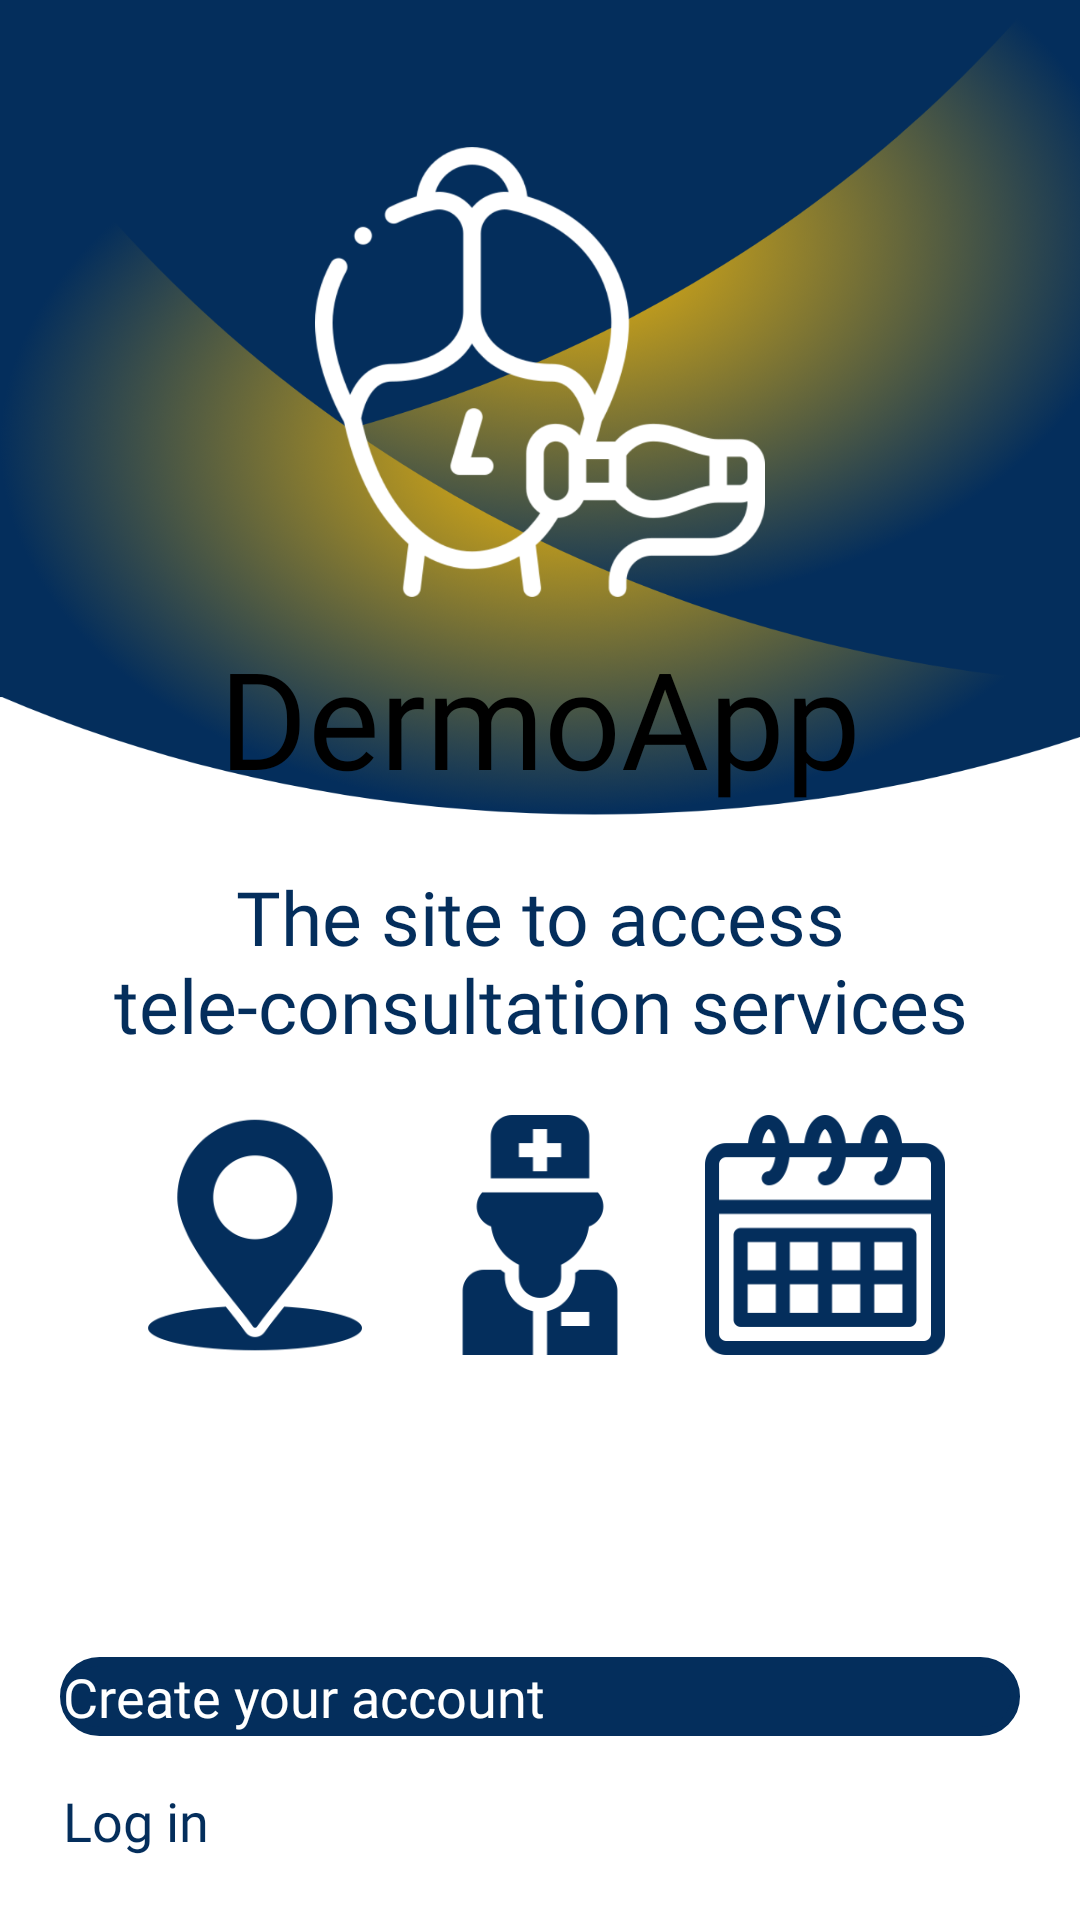

Locate icon controls on the screen. Image size 1080w x 1920h, boxes as (x1, y1, x2, y2).
calendario: (705, 1115, 945, 1355)
doctor: (462, 1115, 618, 1355)
localizacion: (148, 1119, 362, 1351)
